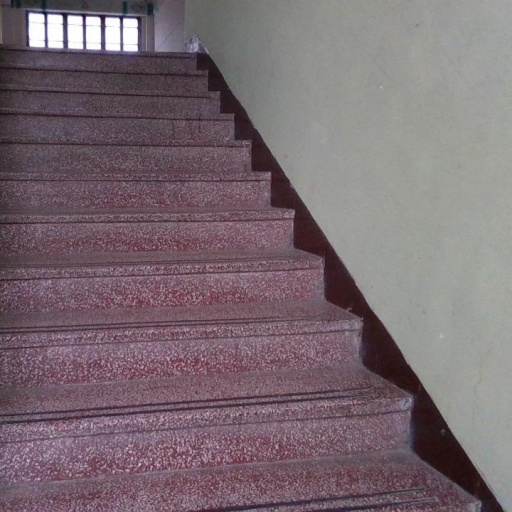Stairs: (2, 49, 479, 512)
